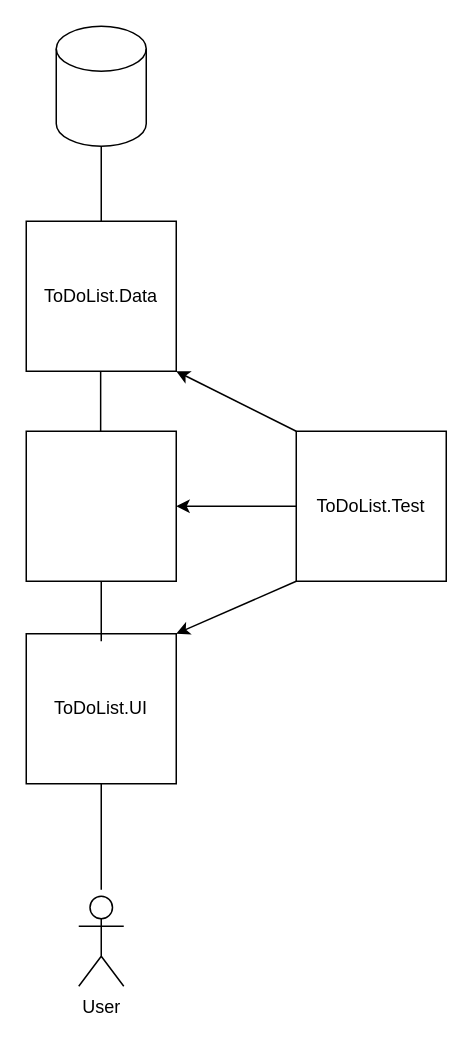
The diagram is 473 pixels wide and 1044 high, and some of its shapes have lost their labels. Here are the shapes that lost their labels. From the top down, the centre of each, then its label:
point (100, 85): DB
point (100, 505): ToDoList.Domain
